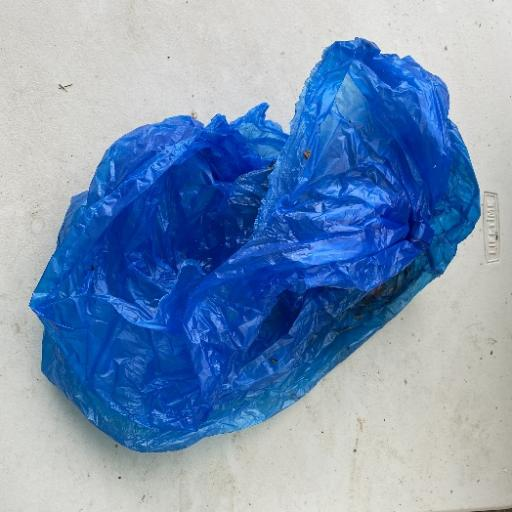Plastic: (28, 36, 482, 454)
